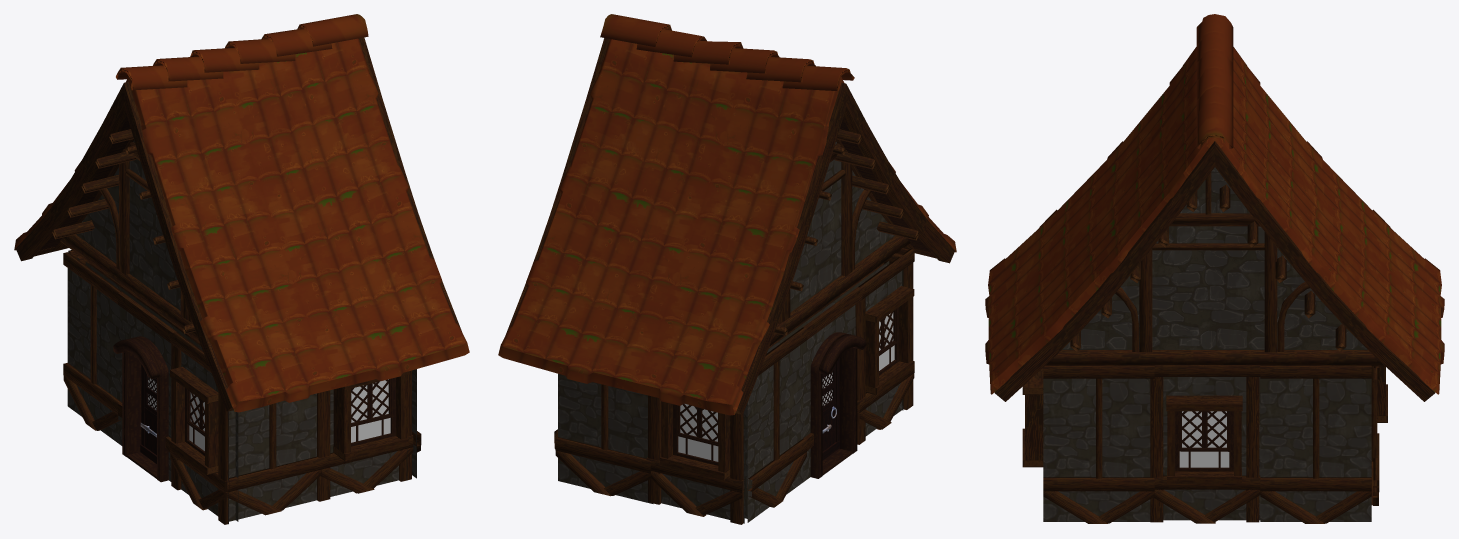
Rendered from Casa_grande3.obj.
The picture shows the model from 3 angles, left to right: view 1: azimuth 30°, elevation 25°; view 2: azimuth 150°, elevation 25°; view 3: azimuth 270°, elevation 25°; orthographic projection.
Visible parts, largest first — view 1: StaticMeshActor_197, StaticMeshActor_195, StaticMeshActor_187, StaticMeshActor_185, StaticMeshActor_193, StaticMeshActor_183, StaticMeshActor_184, StaticMeshActor_199, StaticMeshActor_192, StaticMeshActor_191, StaticMeshActor_198, StaticMeshActor_189; view 2: StaticMeshActor_197, StaticMeshActor_195, StaticMeshActor_186, StaticMeshActor_185, StaticMeshActor_182, StaticMeshActor_183, StaticMeshActor_199, StaticMeshActor_200, StaticMeshActor_192, StaticMeshActor_191, StaticMeshActor_198; view 3: StaticMeshActor_197, StaticMeshActor_196, StaticMeshActor_190, StaticMeshActor_189, StaticMeshActor_188, StaticMeshActor_194, StaticMeshActor_193, StaticMeshActor_186, StaticMeshActor_200.
Boxes of the visible parts, x1,y1,x2,y2 form: StaticMeshActor_197: [14, 14, 469, 412]; StaticMeshActor_195: [52, 129, 200, 343]; StaticMeshActor_187: [227, 393, 321, 521]; StaticMeshActor_185: [63, 252, 137, 445]; StaticMeshActor_193: [333, 371, 409, 461]; StaticMeshActor_183: [170, 332, 238, 524]; StaticMeshActor_184: [317, 370, 413, 501]; StaticMeshActor_199: [113, 336, 168, 482]; StaticMeshActor_192: [170, 366, 218, 474]; StaticMeshActor_191: [118, 292, 189, 481]; StaticMeshActor_198: [140, 364, 156, 463]; StaticMeshActor_189: [406, 369, 421, 480]; StaticMeshActor_197: [498, 14, 956, 415]; StaticMeshActor_195: [769, 129, 919, 346]; StaticMeshActor_186: [555, 374, 653, 503]; StaticMeshActor_185: [747, 327, 807, 522]; StaticMeshActor_182: [646, 395, 747, 524]; StaticMeshActor_183: [840, 249, 914, 444]; StaticMeshActor_199: [810, 332, 866, 478]; StaticMeshActor_200: [660, 401, 730, 480]; StaticMeshActor_192: [865, 286, 914, 394]; StaticMeshActor_191: [788, 287, 862, 482]; StaticMeshActor_198: [822, 358, 839, 460]; StaticMeshActor_197: [985, 14, 1444, 401]; StaticMeshActor_196: [1046, 167, 1384, 366]; StaticMeshActor_190: [1260, 365, 1371, 523]; StaticMeshActor_189: [1043, 365, 1154, 523]; StaticMeshActor_188: [1150, 365, 1260, 523]; StaticMeshActor_194: [1166, 395, 1242, 483]; StaticMeshActor_193: [1022, 368, 1043, 467]; StaticMeshActor_186: [1371, 366, 1379, 505]; StaticMeshActor_200: [1377, 366, 1387, 422].
Bounding box in the file's own units: 519 × 811 × 826.
